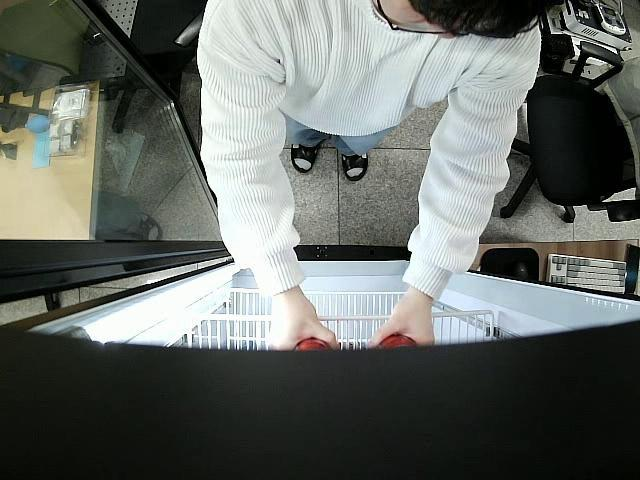11_cocaColaZero: (374, 332, 418, 349), (290, 334, 331, 351)
